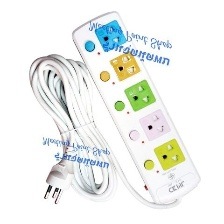three_eye_plug: (69, 9, 203, 209)
